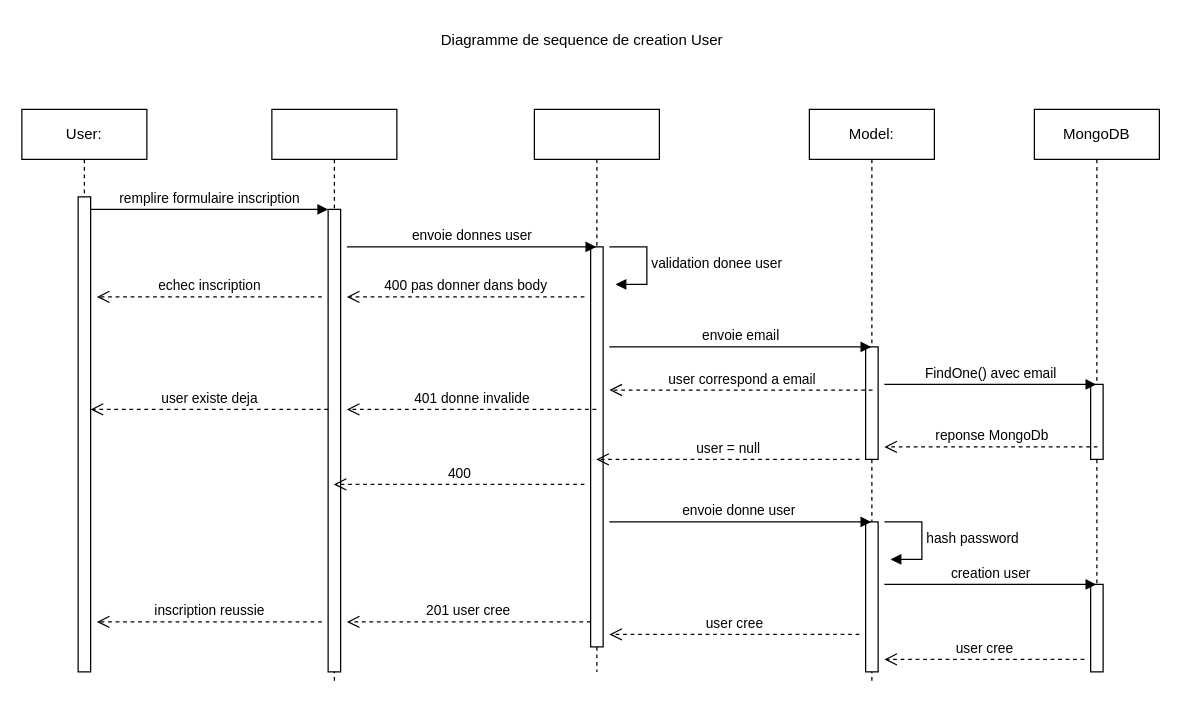
Image size: 1181x706. Some labels were removed from this diagram. The box of each missing label's shape, as (x1, y1, x2, y2) in pixels:
Controller:: (533, 108, 659, 672)
React:: (271, 108, 397, 684)
